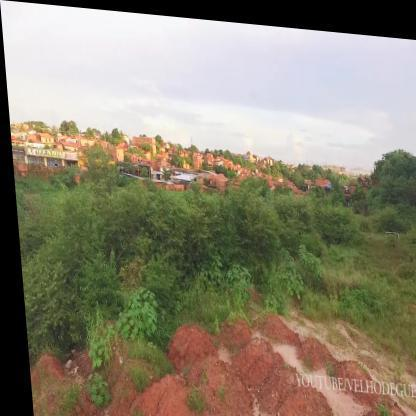agua: (271, 335, 298, 364), (245, 409, 271, 415)
